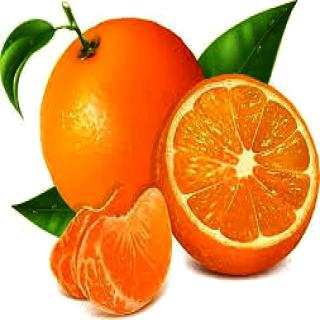orange: (25, 8, 226, 235), (145, 68, 320, 273), (49, 185, 175, 319)
